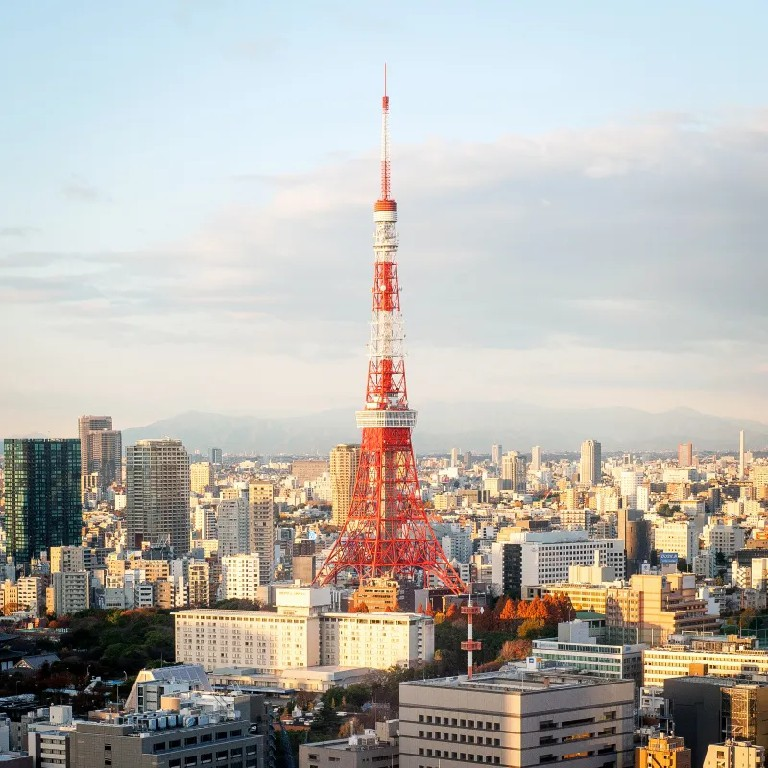Tokyo: (301, 55, 467, 588)
